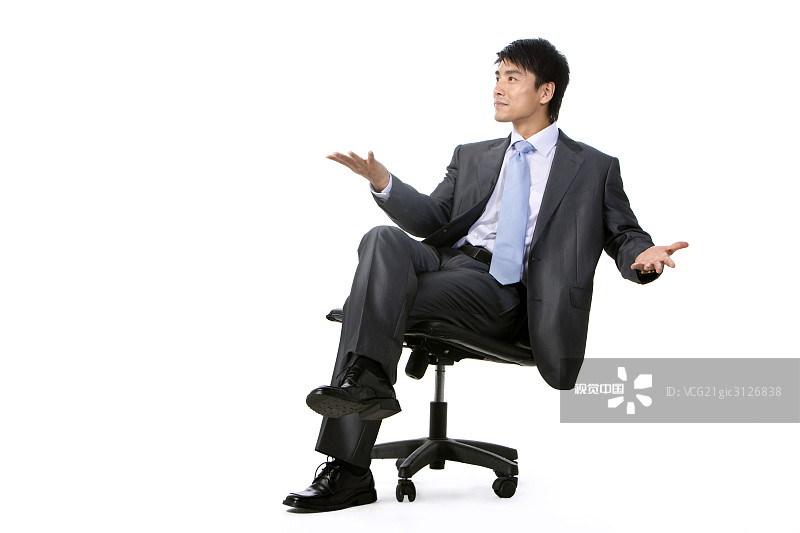no-phone: (311, 137, 401, 199), (618, 234, 704, 291)
